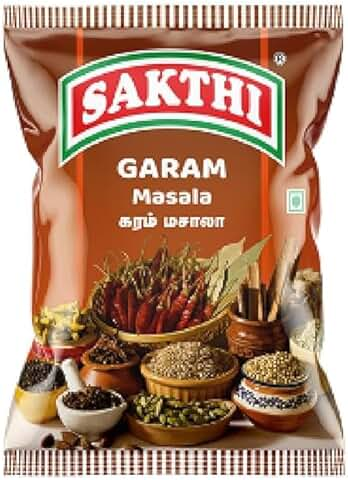Garamasala: (5, 7, 348, 480)
